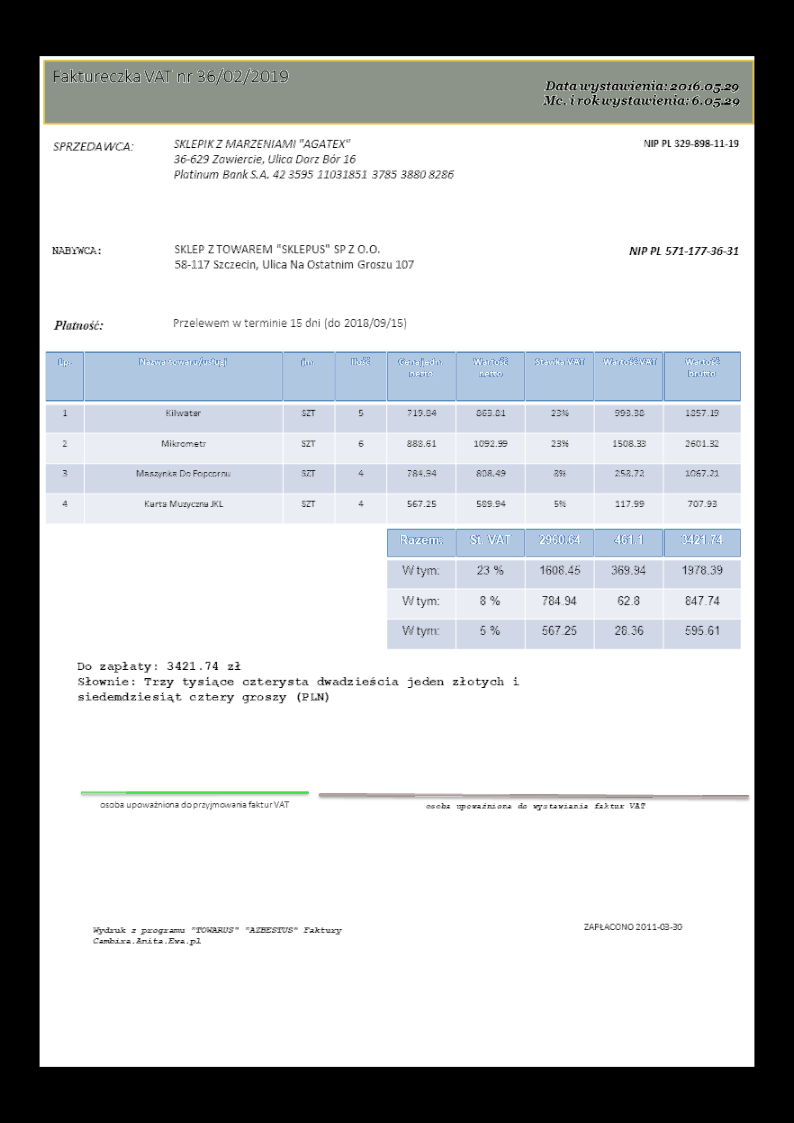Table: (43, 350, 741, 526), (386, 528, 741, 651)
TextBox: (74, 658, 524, 706), (169, 134, 456, 187), (171, 242, 416, 273), (539, 76, 743, 112), (89, 925, 347, 949), (49, 64, 291, 87), (170, 316, 409, 332), (423, 800, 647, 812), (96, 799, 291, 811), (626, 243, 740, 259), (640, 134, 739, 152), (49, 137, 135, 156), (582, 919, 685, 934), (49, 242, 103, 259), (51, 317, 105, 332)
